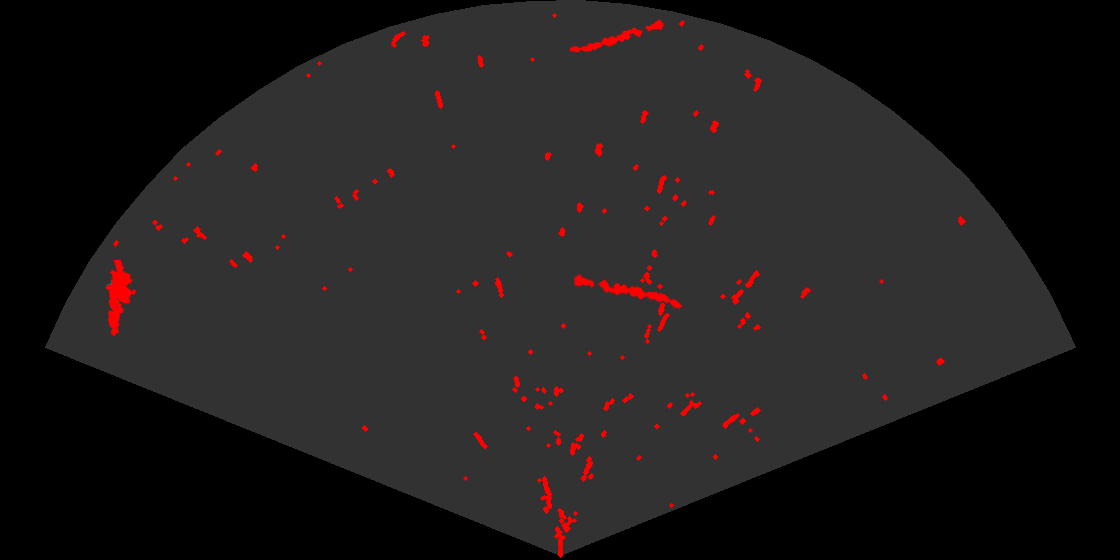chain: (571, 272, 684, 311), (568, 18, 666, 54)
frogman: (104, 260, 138, 338)
